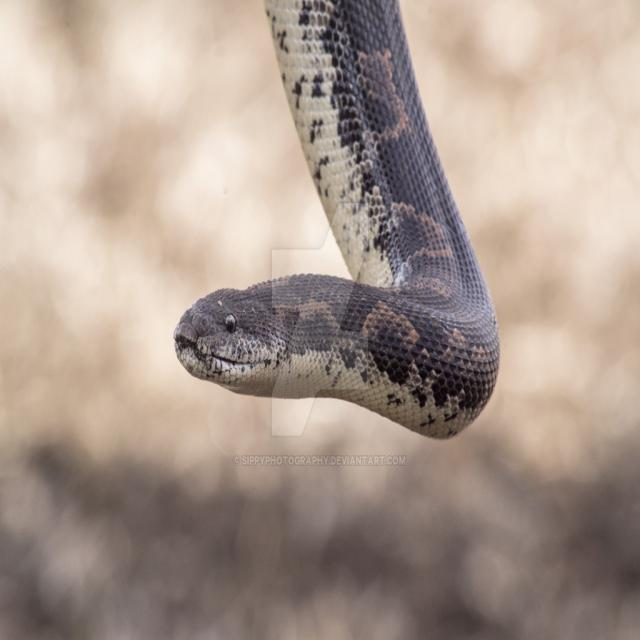Snake: (170, 0, 509, 444)
